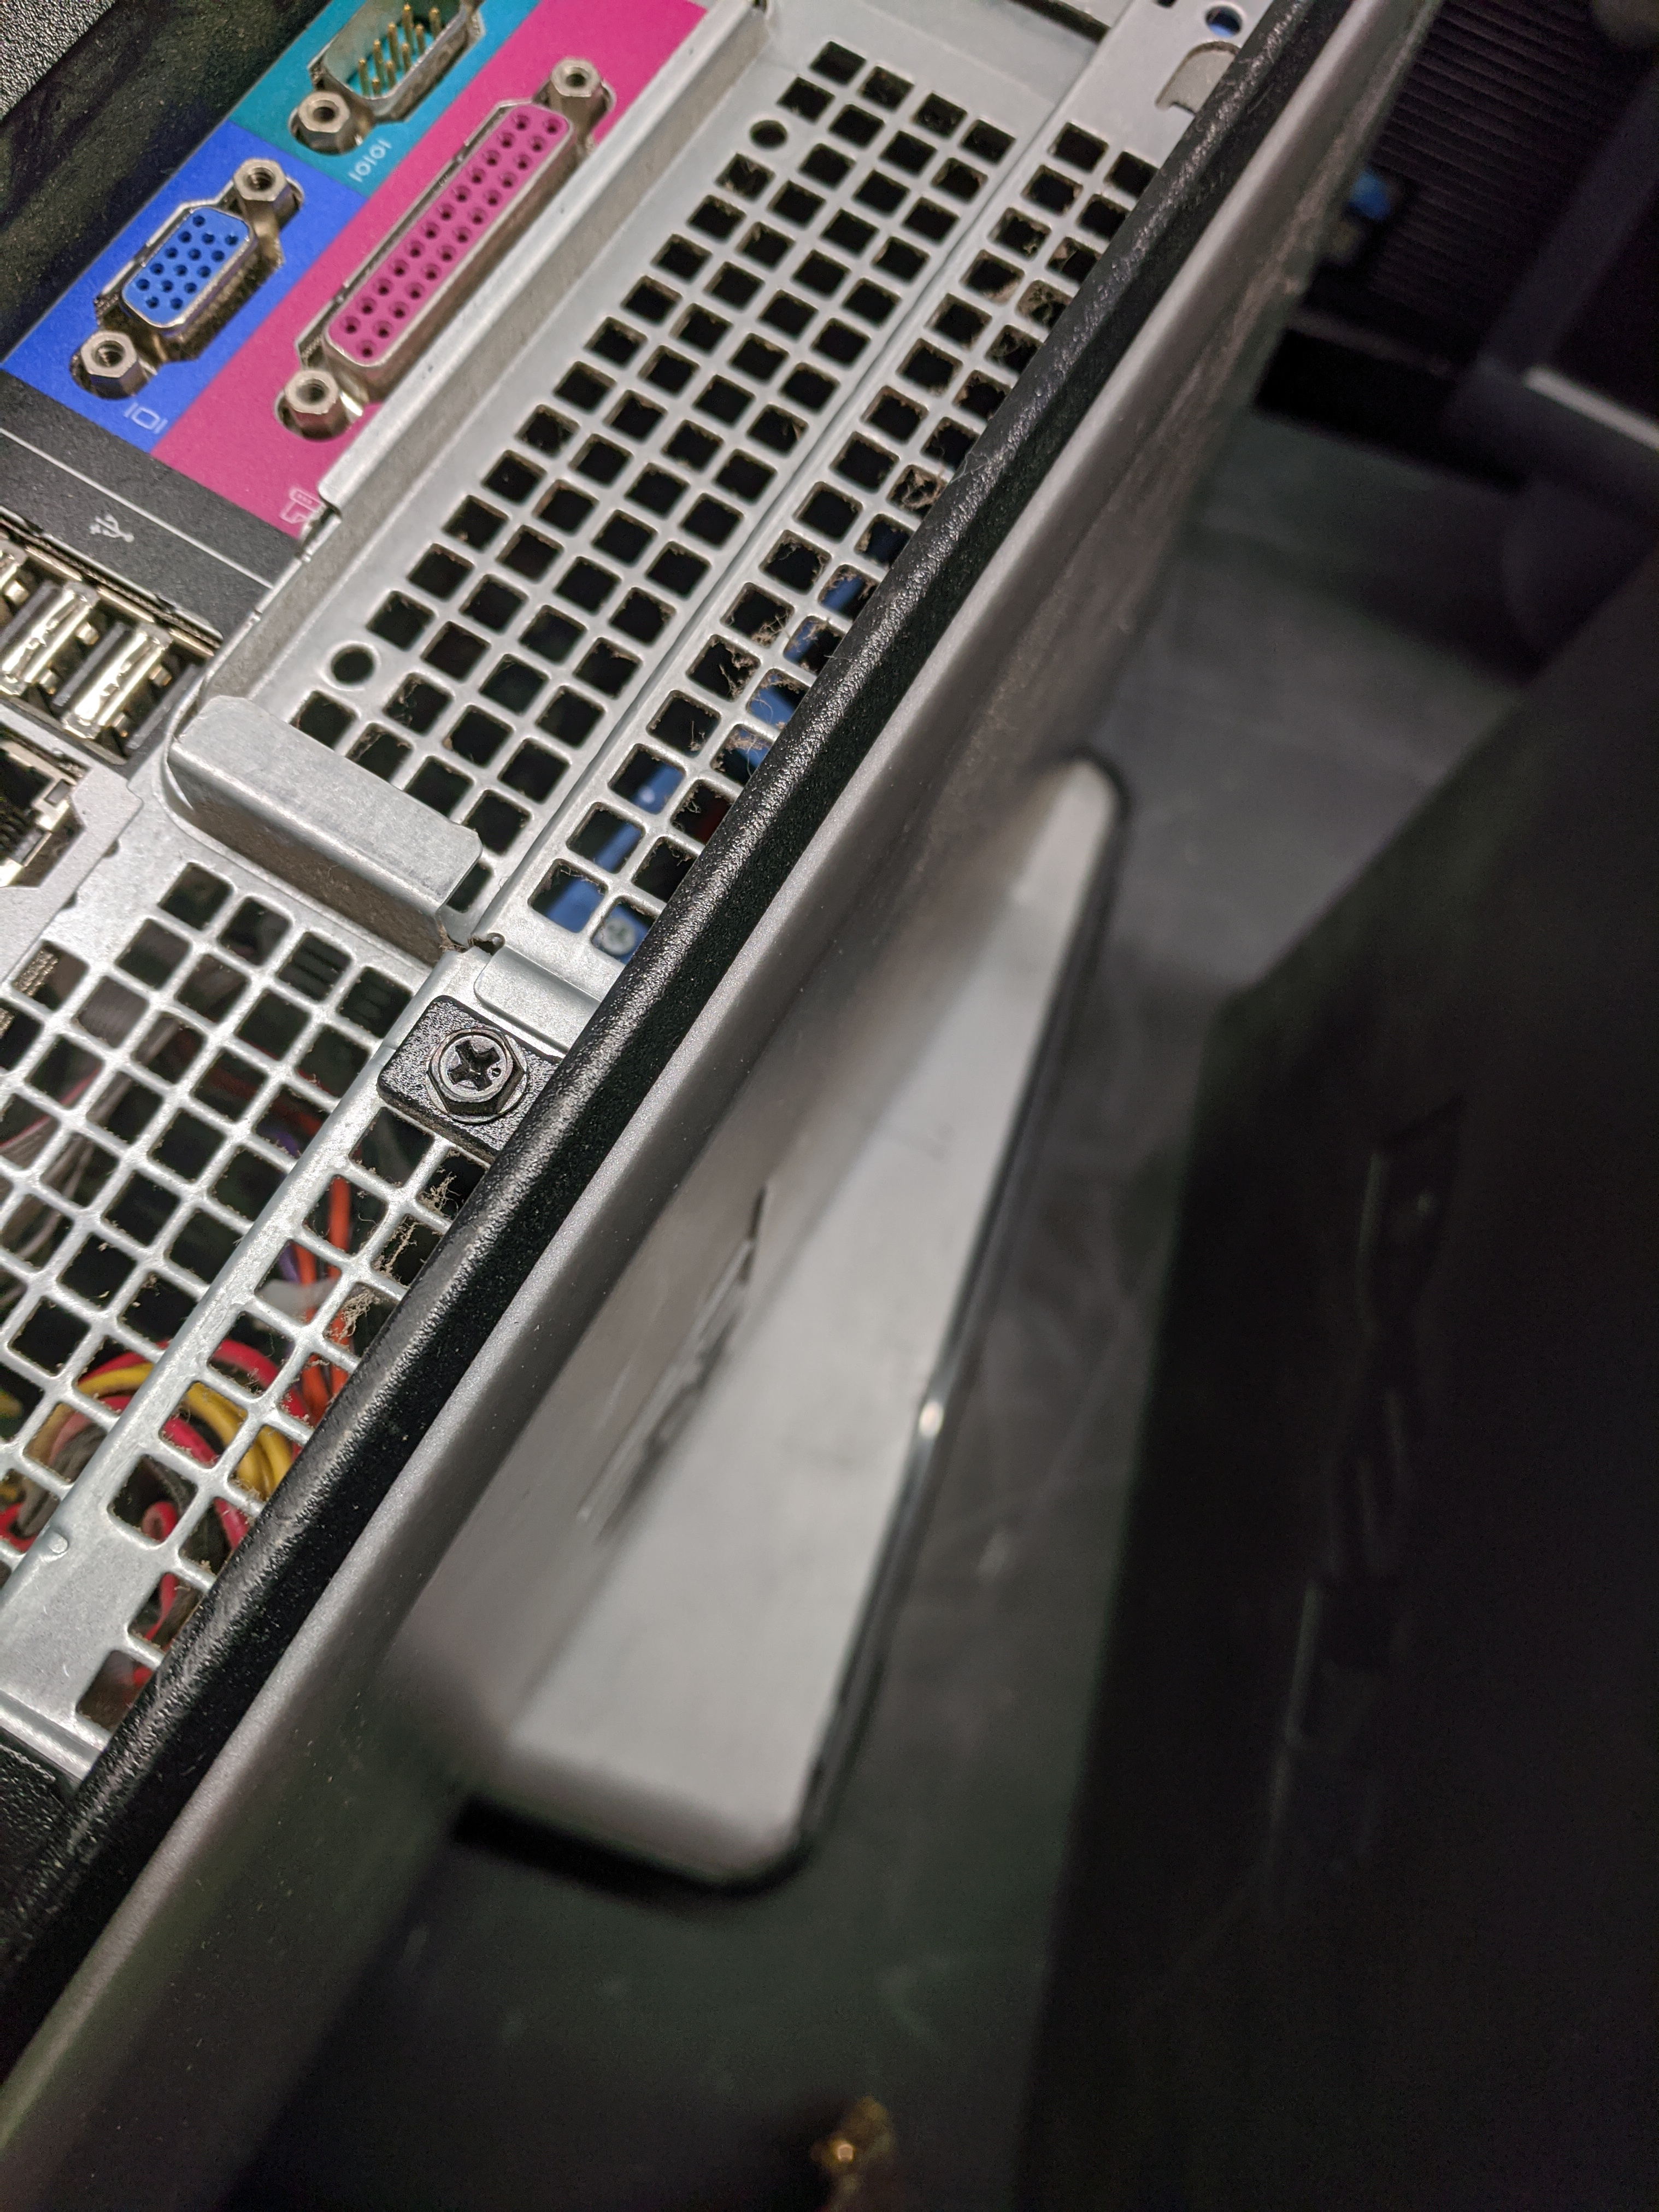cross_recessed_screw: (423, 1014, 518, 1104)
